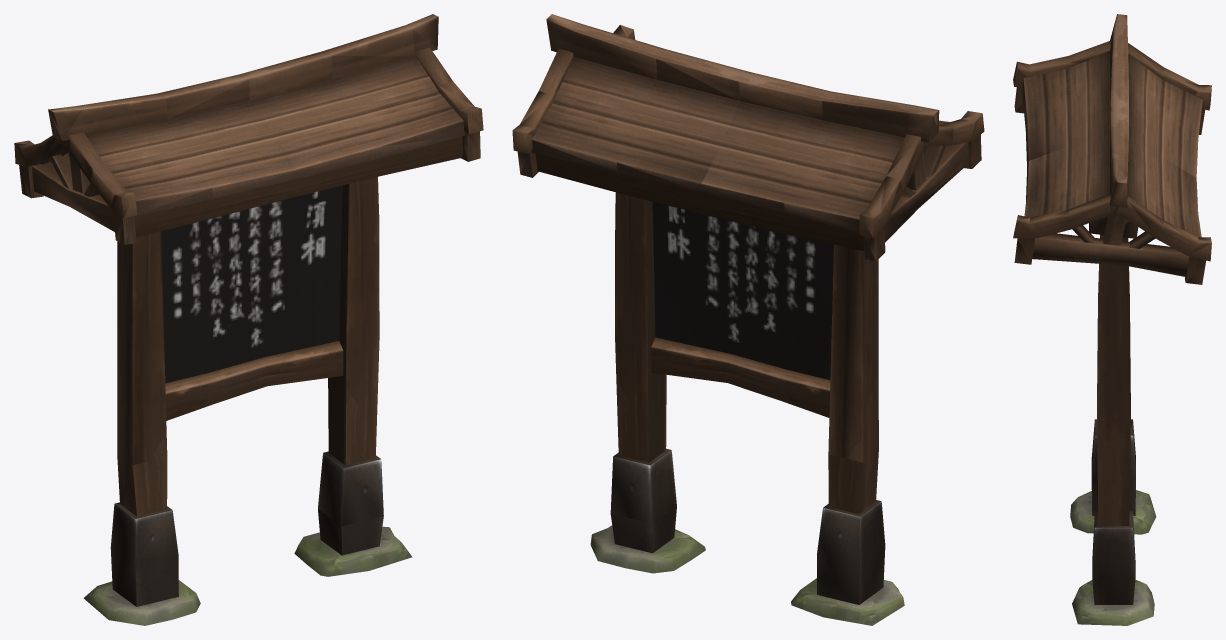
Rendered from shrine_wj001_19.FBX.
3 views of the same model, side by side, from view 1: azimuth 30°, elevation 25°; view 2: azimuth 150°, elevation 25°; view 3: azimuth 270°, elevation 25° (orthographic). The views are drawn at different scales.
Parts seen in each view (by area): view 1: shrine_wj001_19; view 2: shrine_wj001_19; view 3: shrine_wj001_19.
Boxes of the visible parts, x1,y1,x2,y2 form: shrine_wj001_19: (14, 14, 483, 625); shrine_wj001_19: (512, 14, 984, 625); shrine_wj001_19: (1013, 14, 1211, 625).
Size of the model in its own units: 211 by 268 by 104.
2 materials, 2 textured.
